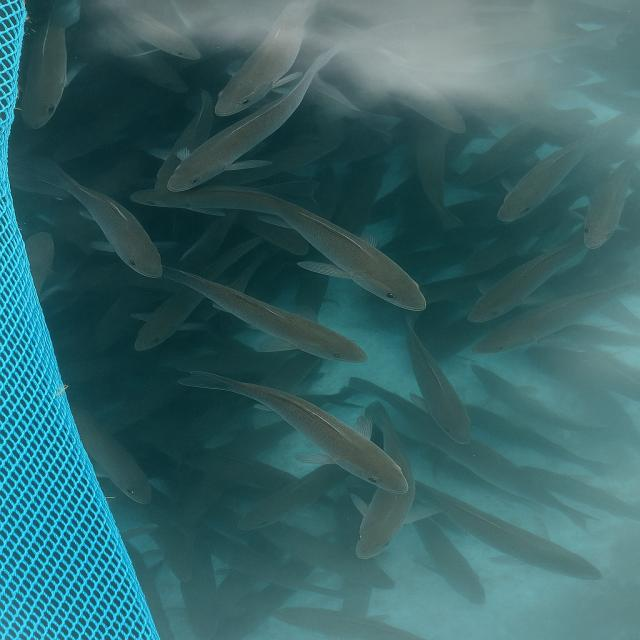ikan: (186, 262, 404, 389), (261, 188, 458, 326), (240, 387, 431, 496), (125, 104, 348, 197), (214, 22, 318, 131)
